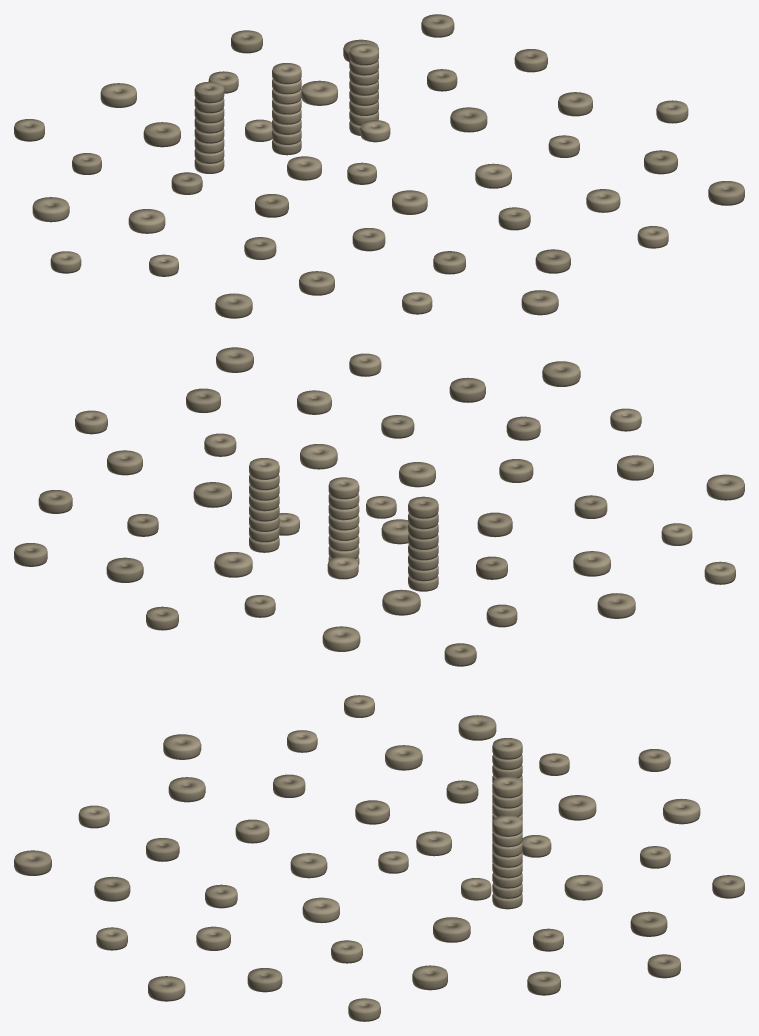
The model's file is crinoid-debris.glb.
3 views of the same model, one above another, from view 1: azimuth 30°, elevation 25°; view 2: azimuth 150°, elevation 25°; view 3: azimuth 270°, elevation 25° (orthographic). The views are drawn at different scales.
Parts seen in each view (by area): view 1: crinoid-debris; view 2: crinoid-debris; view 3: crinoid-debris.
Boxes of the visible parts, box(x1,y1,x2,y2) form: crinoid-debris: box(14, 14, 744, 318); crinoid-debris: box(14, 347, 744, 666); crinoid-debris: box(14, 695, 744, 1021).
Bounding box in the file's own units: 0.1973 × 0.0238 × 0.1923.
